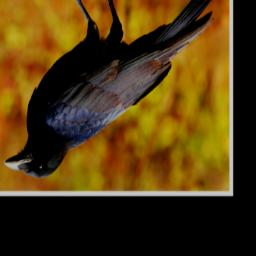Crow: (3, 0, 220, 182)
